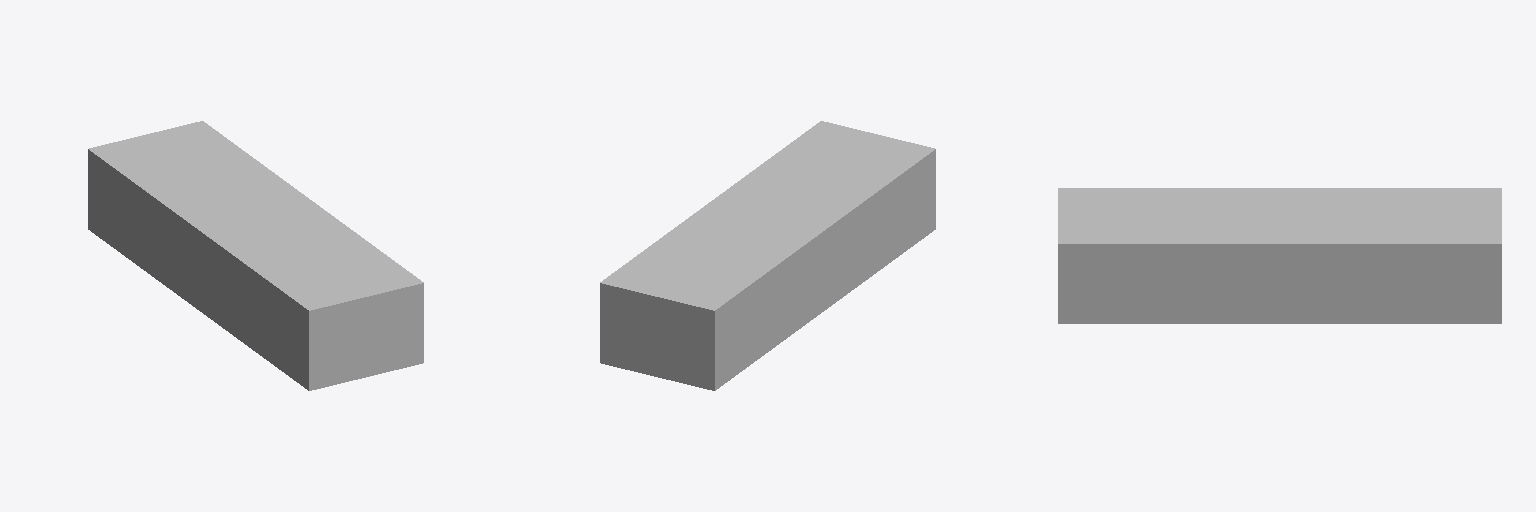
File: Sidewalk3.obj
3 views of the same model, side by side, from view 1: azimuth 30°, elevation 25°; view 2: azimuth 150°, elevation 25°; view 3: azimuth 270°, elevation 25° (orthographic).
Visible parts, largest first — view 1: SIDEWALK-2; view 2: SIDEWALK-2; view 3: SIDEWALK-2.
Part boxes in pixels (x1,y1,x2,y2): SIDEWALK-2: (88,121,423,390); SIDEWALK-2: (600,121,935,390); SIDEWALK-2: (1058,188,1501,323).
Bounding box in the file's own units: 3 × 2 × 10.